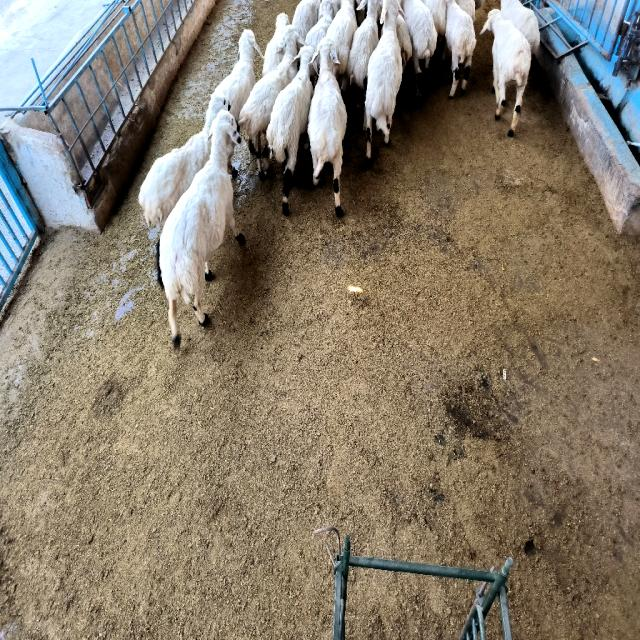sheep: (159, 110, 244, 348), (139, 95, 229, 228), (239, 25, 304, 179), (266, 47, 314, 214), (308, 37, 348, 216), (481, 8, 531, 136), (365, 0, 402, 166), (214, 28, 262, 121), (401, 0, 438, 104), (348, 0, 380, 108), (445, 0, 476, 98), (326, 0, 358, 91), (501, 0, 540, 53), (262, 13, 289, 76), (305, 0, 334, 49), (292, 0, 321, 38)
